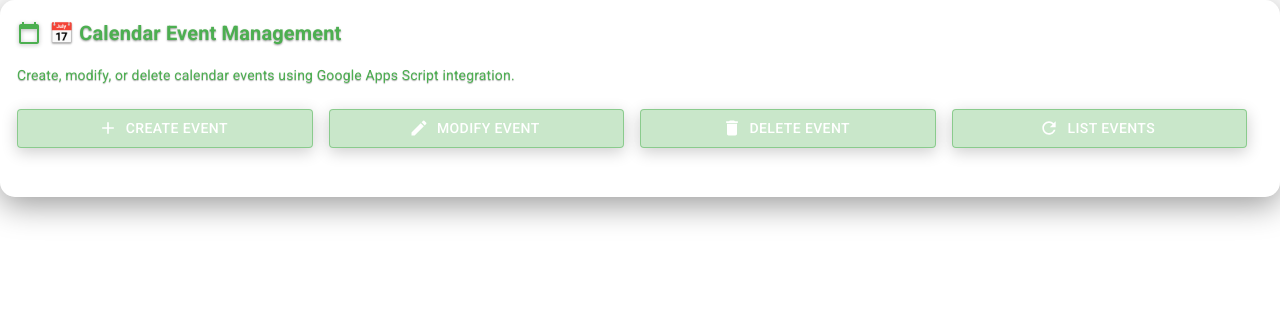
Scenario: SimpleCalendarTest Component › List Events › handles empty event list
Click the button "List Events": (1099, 128) [952,109,1247,148]
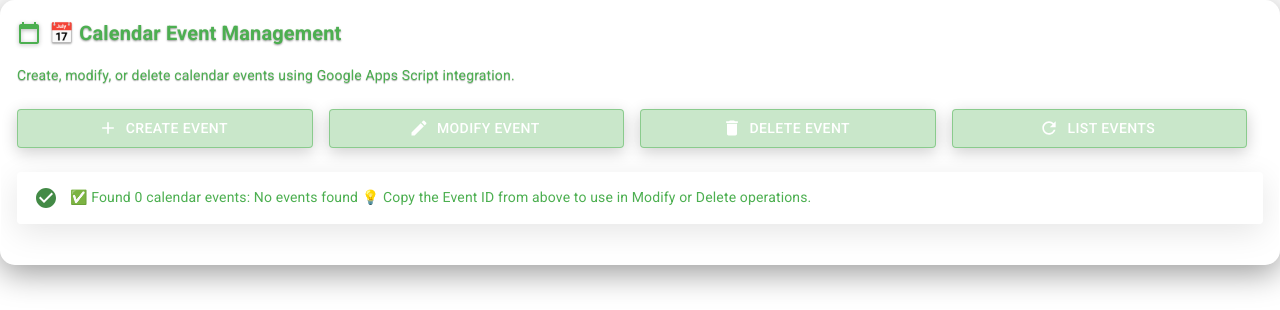
Check: the text "No events found" is shown, box [70,188,812,204]
